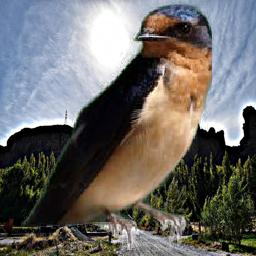Swallow: (22, 2, 213, 250)
